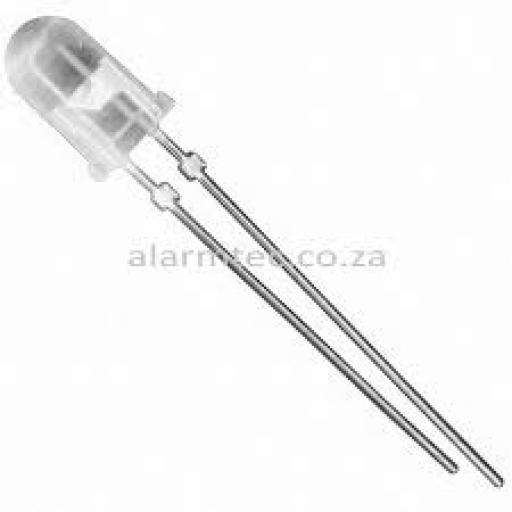LED: (5, 14, 506, 496)
